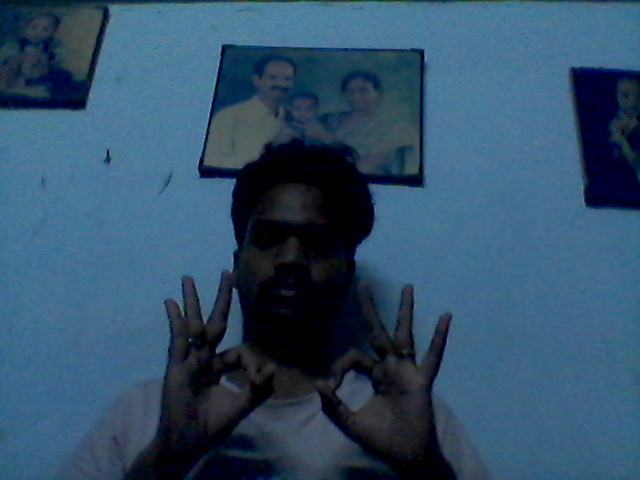How are you: (154, 269, 463, 470)
